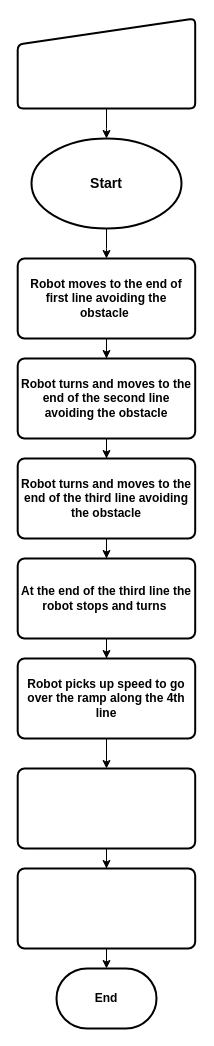
Image size: 214x1046. Some labels were removed from this diagram. The shapes that lost their labels are listed below. From the top down, each one's centre as x and y in pixels, then its label:
At [106,63]: "Place robot at starting location (Square at the beginning of obstacle course)".
At [106,808]: "Robot stops and turns at the end of the 4th line".
At [106,908]: "Robot picks up speed and follows the 5th line to collide with the set of pins".
